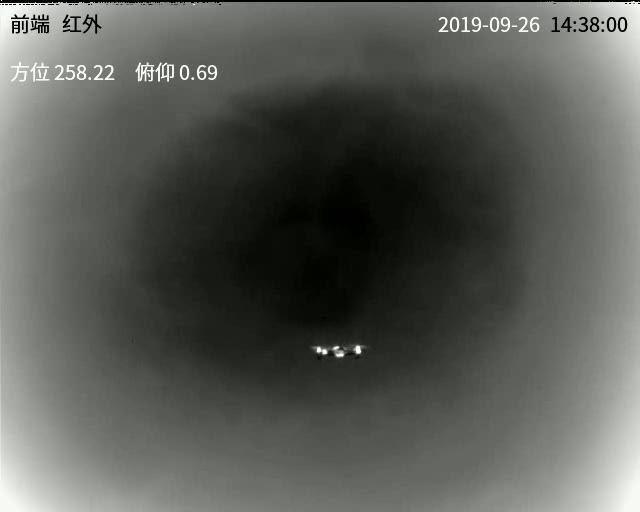DRONE: (312, 343, 369, 361)
